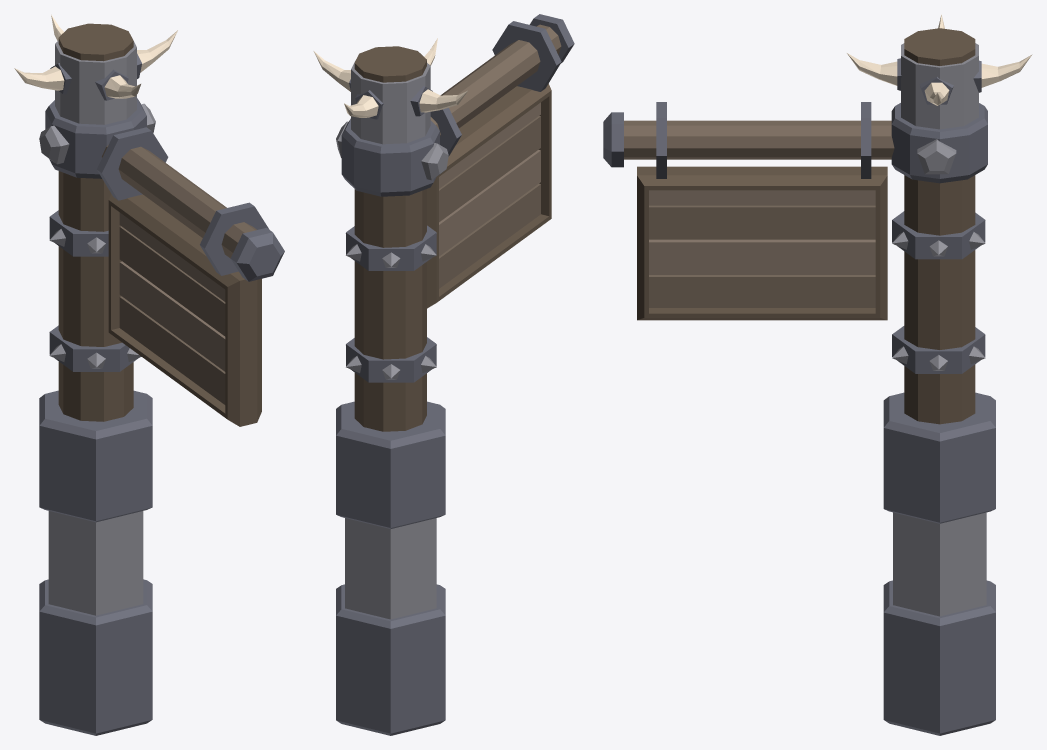
The model's file is pointer.fbx.
3 renders of one model, left to right at view 1: azimuth 30°, elevation 25°; view 2: azimuth 150°, elevation 25°; view 3: azimuth 270°, elevation 25°, orthographic. The views are drawn at different scales.
Parts seen in each view (by area): view 1: pointer; view 2: pointer; view 3: pointer.
Boxes of the visible parts, x1,y1,x2,y2 form: pointer: (14, 14, 284, 735); pointer: (313, 14, 574, 735); pointer: (603, 14, 1032, 735).
Size of the model in its own units: 82.89 by 328 by 191.
